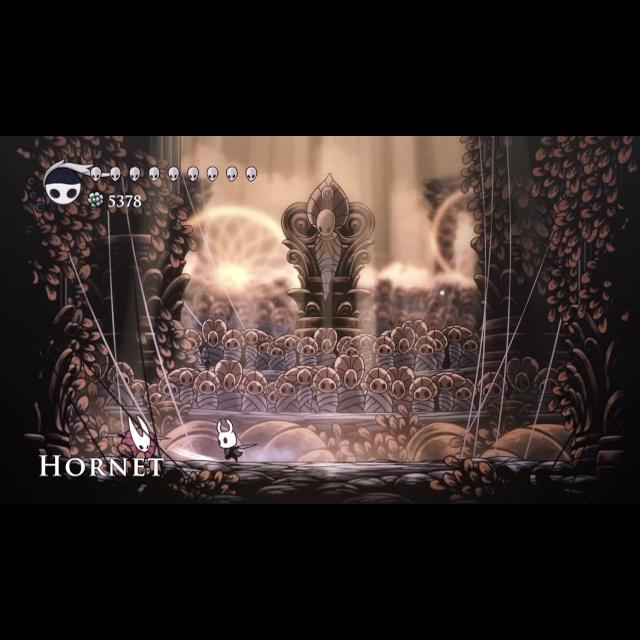EnemyLeadIn: (99, 414, 173, 462)
Player: (214, 418, 260, 464)
